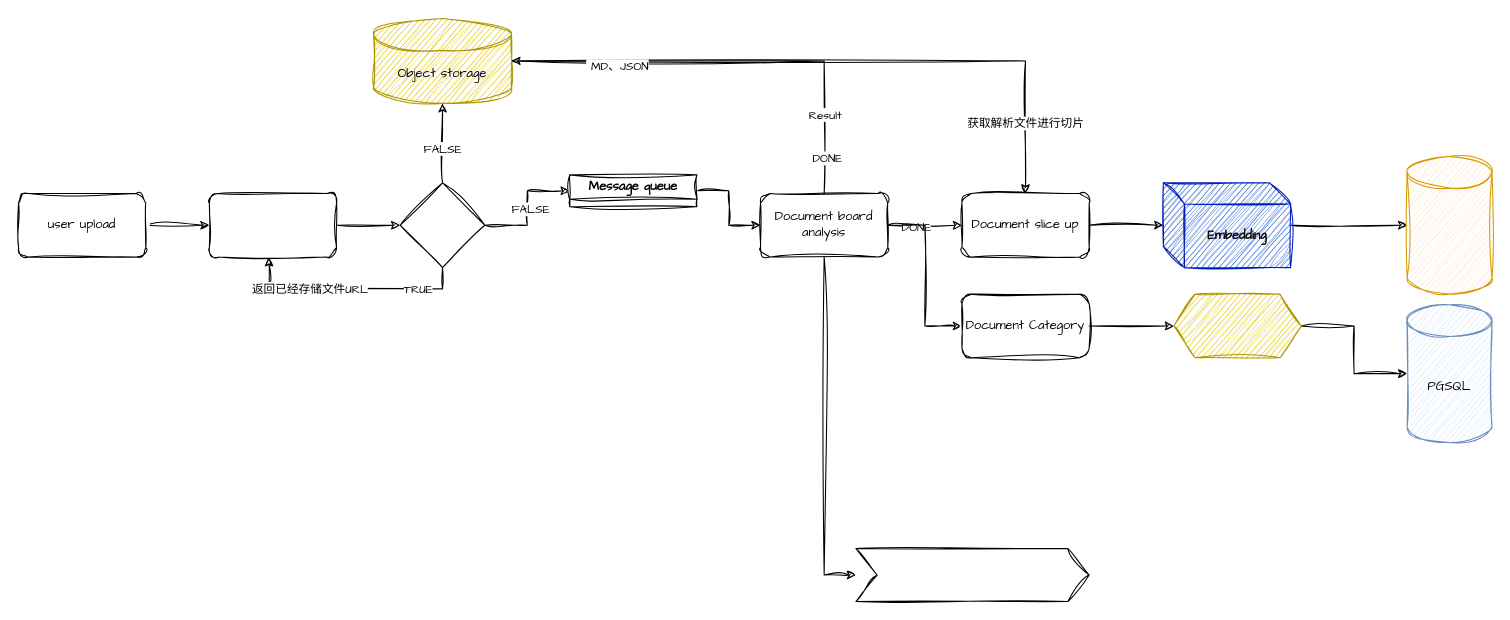
Image size: 1510x620. Some labels were removed from this diagram. Here are the shapes that lost their labels. From the top down, the centre of each, then its label:
(272,224): MinIO client
(442,225): repetition
(1449,224): Vector
(1237,325): MateDate Extract
